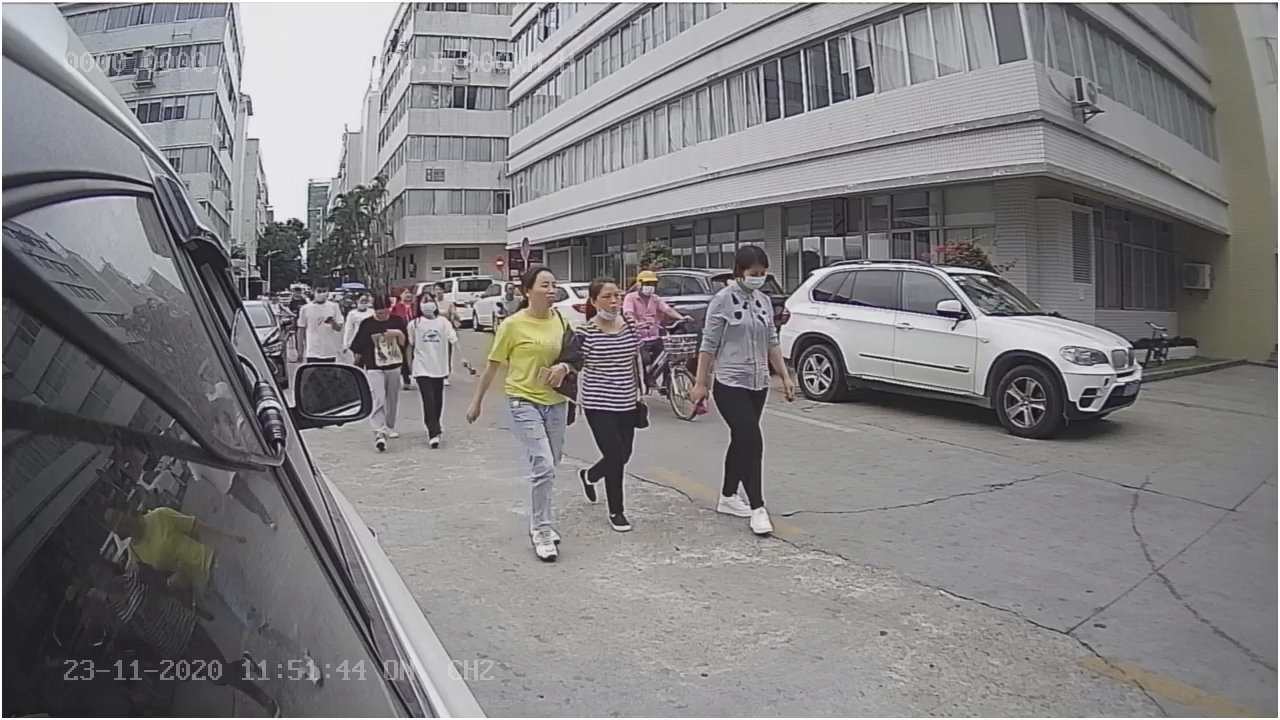person: (465, 269, 581, 563), (689, 244, 793, 538)
